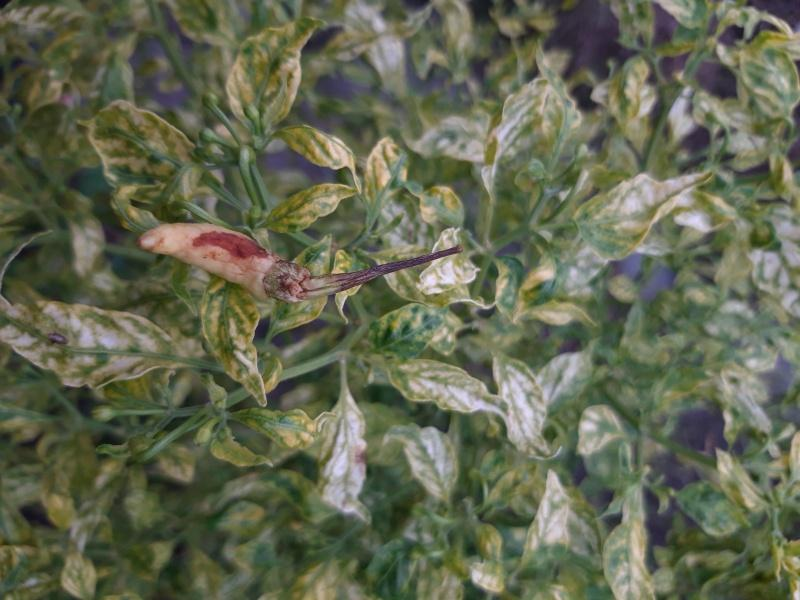antraknosa: (138, 220, 279, 301)
